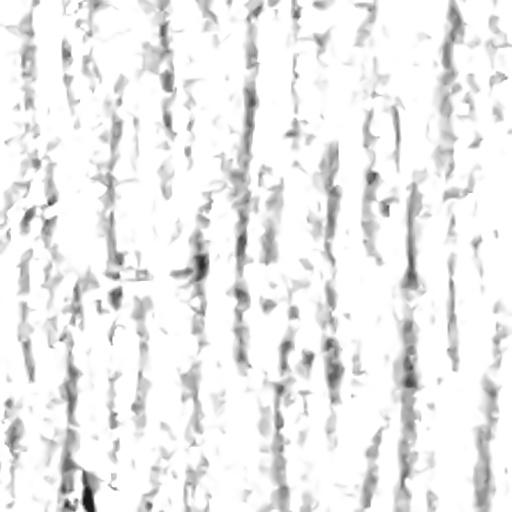egg: (82, 484, 95, 511)
